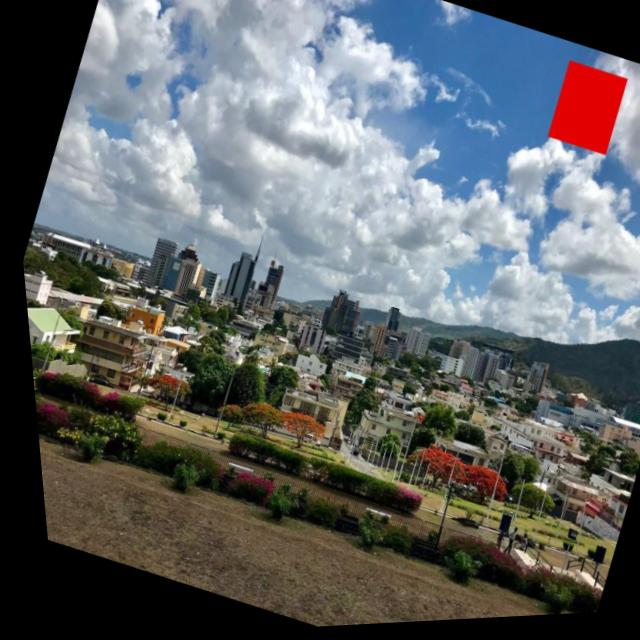RedSquare: (533, 59, 638, 172)
